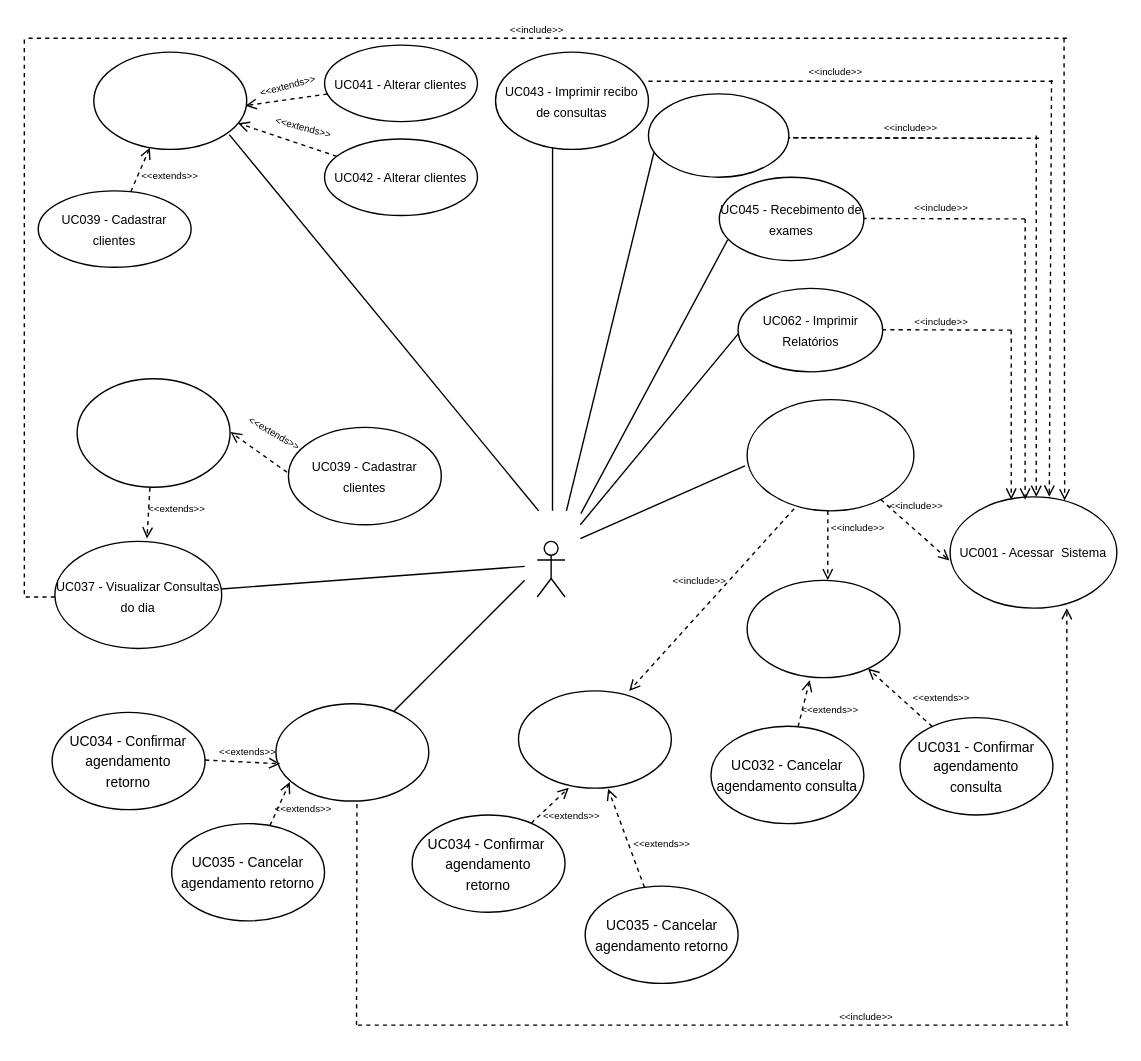
Image size: 1141x1061. Some labels were removed from this diagram. The shapes that lost their labels are listed below. From the top down, each one's centre as x and y in pixels, then its label:
[169,100]: UC040 - Visualizar Clientes
[718,134]: UC044 - Imprimir Segunda via Receitas
[153,432]: UC038 - Vincular agendamento a clientes registrados
[830,454]: UC029 - Visualizar Médicos Disponíveis para Agendamento
[550,568]: Recepcionista
[823,628]: UC030 - Agendar consultas
[352,751]: UC036 -Visualizar consultas agendadas
[594,738]: UC033 - Agendar Retorno
